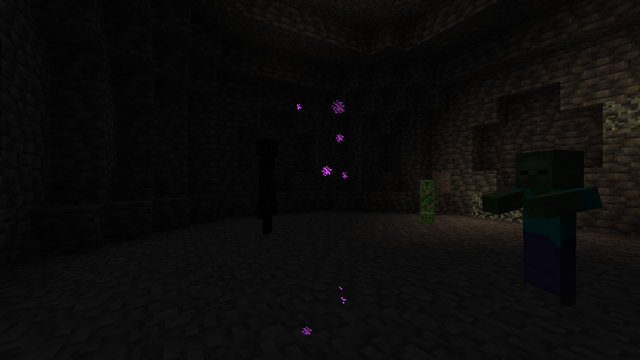creepers: (415, 177, 438, 223)
endermens: (254, 135, 279, 236)
zombies: (512, 152, 585, 311)
